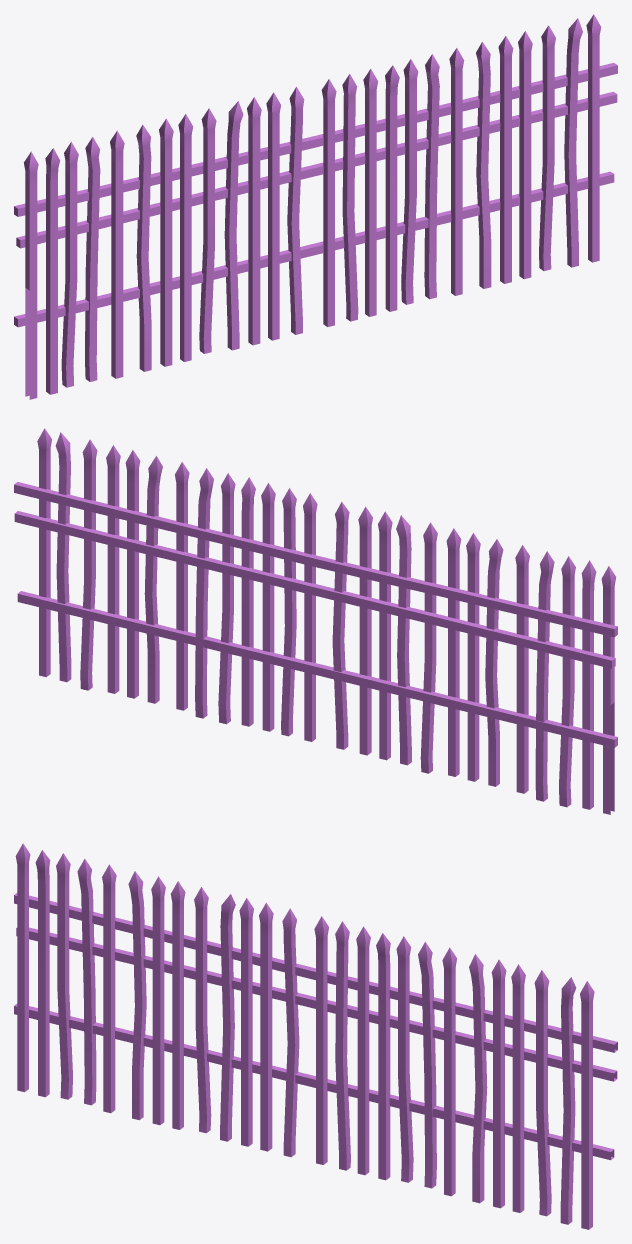
File: Struct_BarFence.fbx
3 views of the same model, one above another, from view 1: azimuth 30°, elevation 25°; view 2: azimuth 150°, elevation 25°; view 3: azimuth 330°, elevation 25° (orthographic).
Parts seen in each view (by area): view 1: Struct_BarFence_LOD0; view 2: Struct_BarFence_LOD0; view 3: Struct_BarFence_LOD0.
Part boxes in pixels (x1,y1,x2,y2): Struct_BarFence_LOD0: (14,14,617,399); Struct_BarFence_LOD0: (14,428,617,814); Struct_BarFence_LOD0: (14,843,617,1229).
Size of what is drawn, in the model's own units: 554 by 217 by 15.54.
